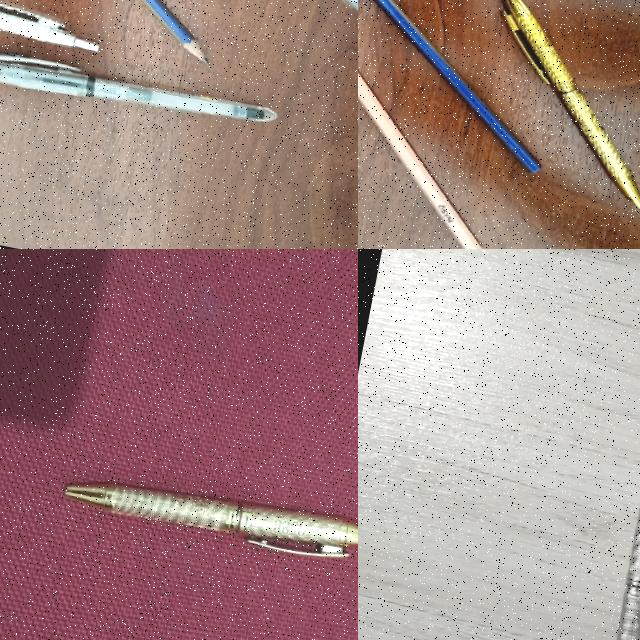pen: (0, 41, 276, 133)
pencil: (374, 0, 539, 170), (358, 72, 479, 249)
signature pen: (461, 0, 640, 207), (65, 484, 357, 558), (616, 505, 640, 640)
